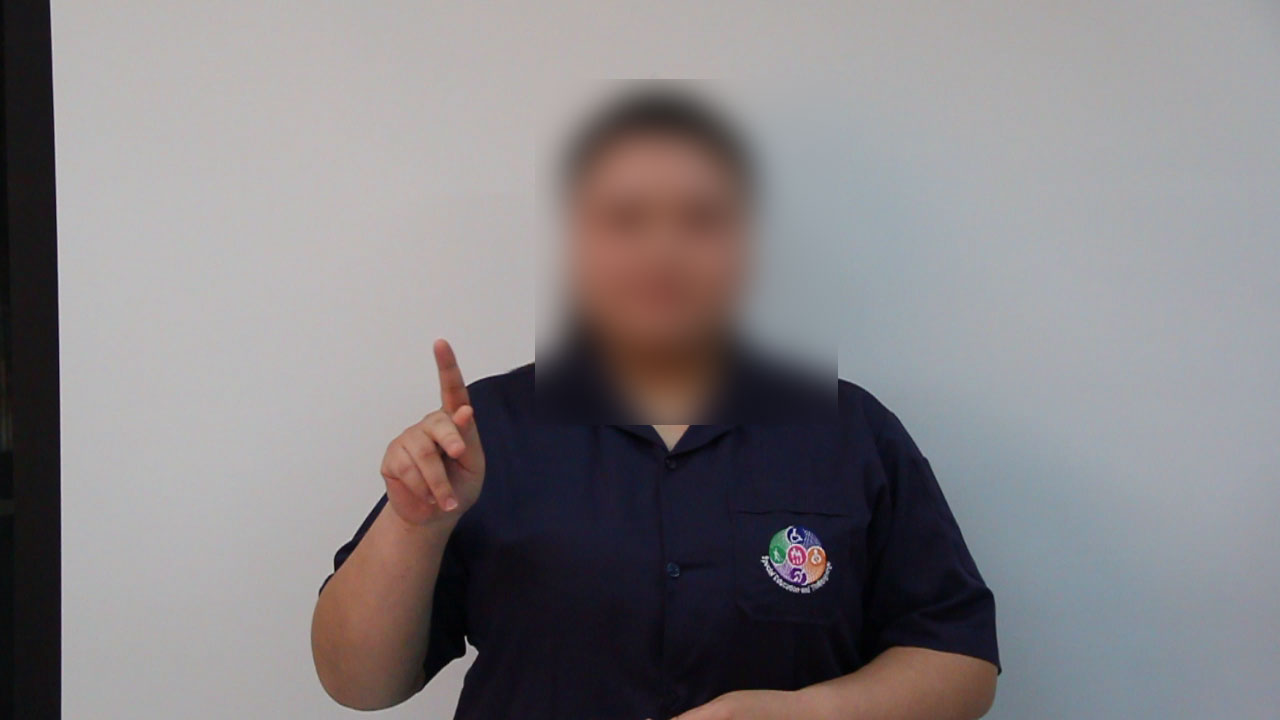ko: (364, 329, 504, 525)
